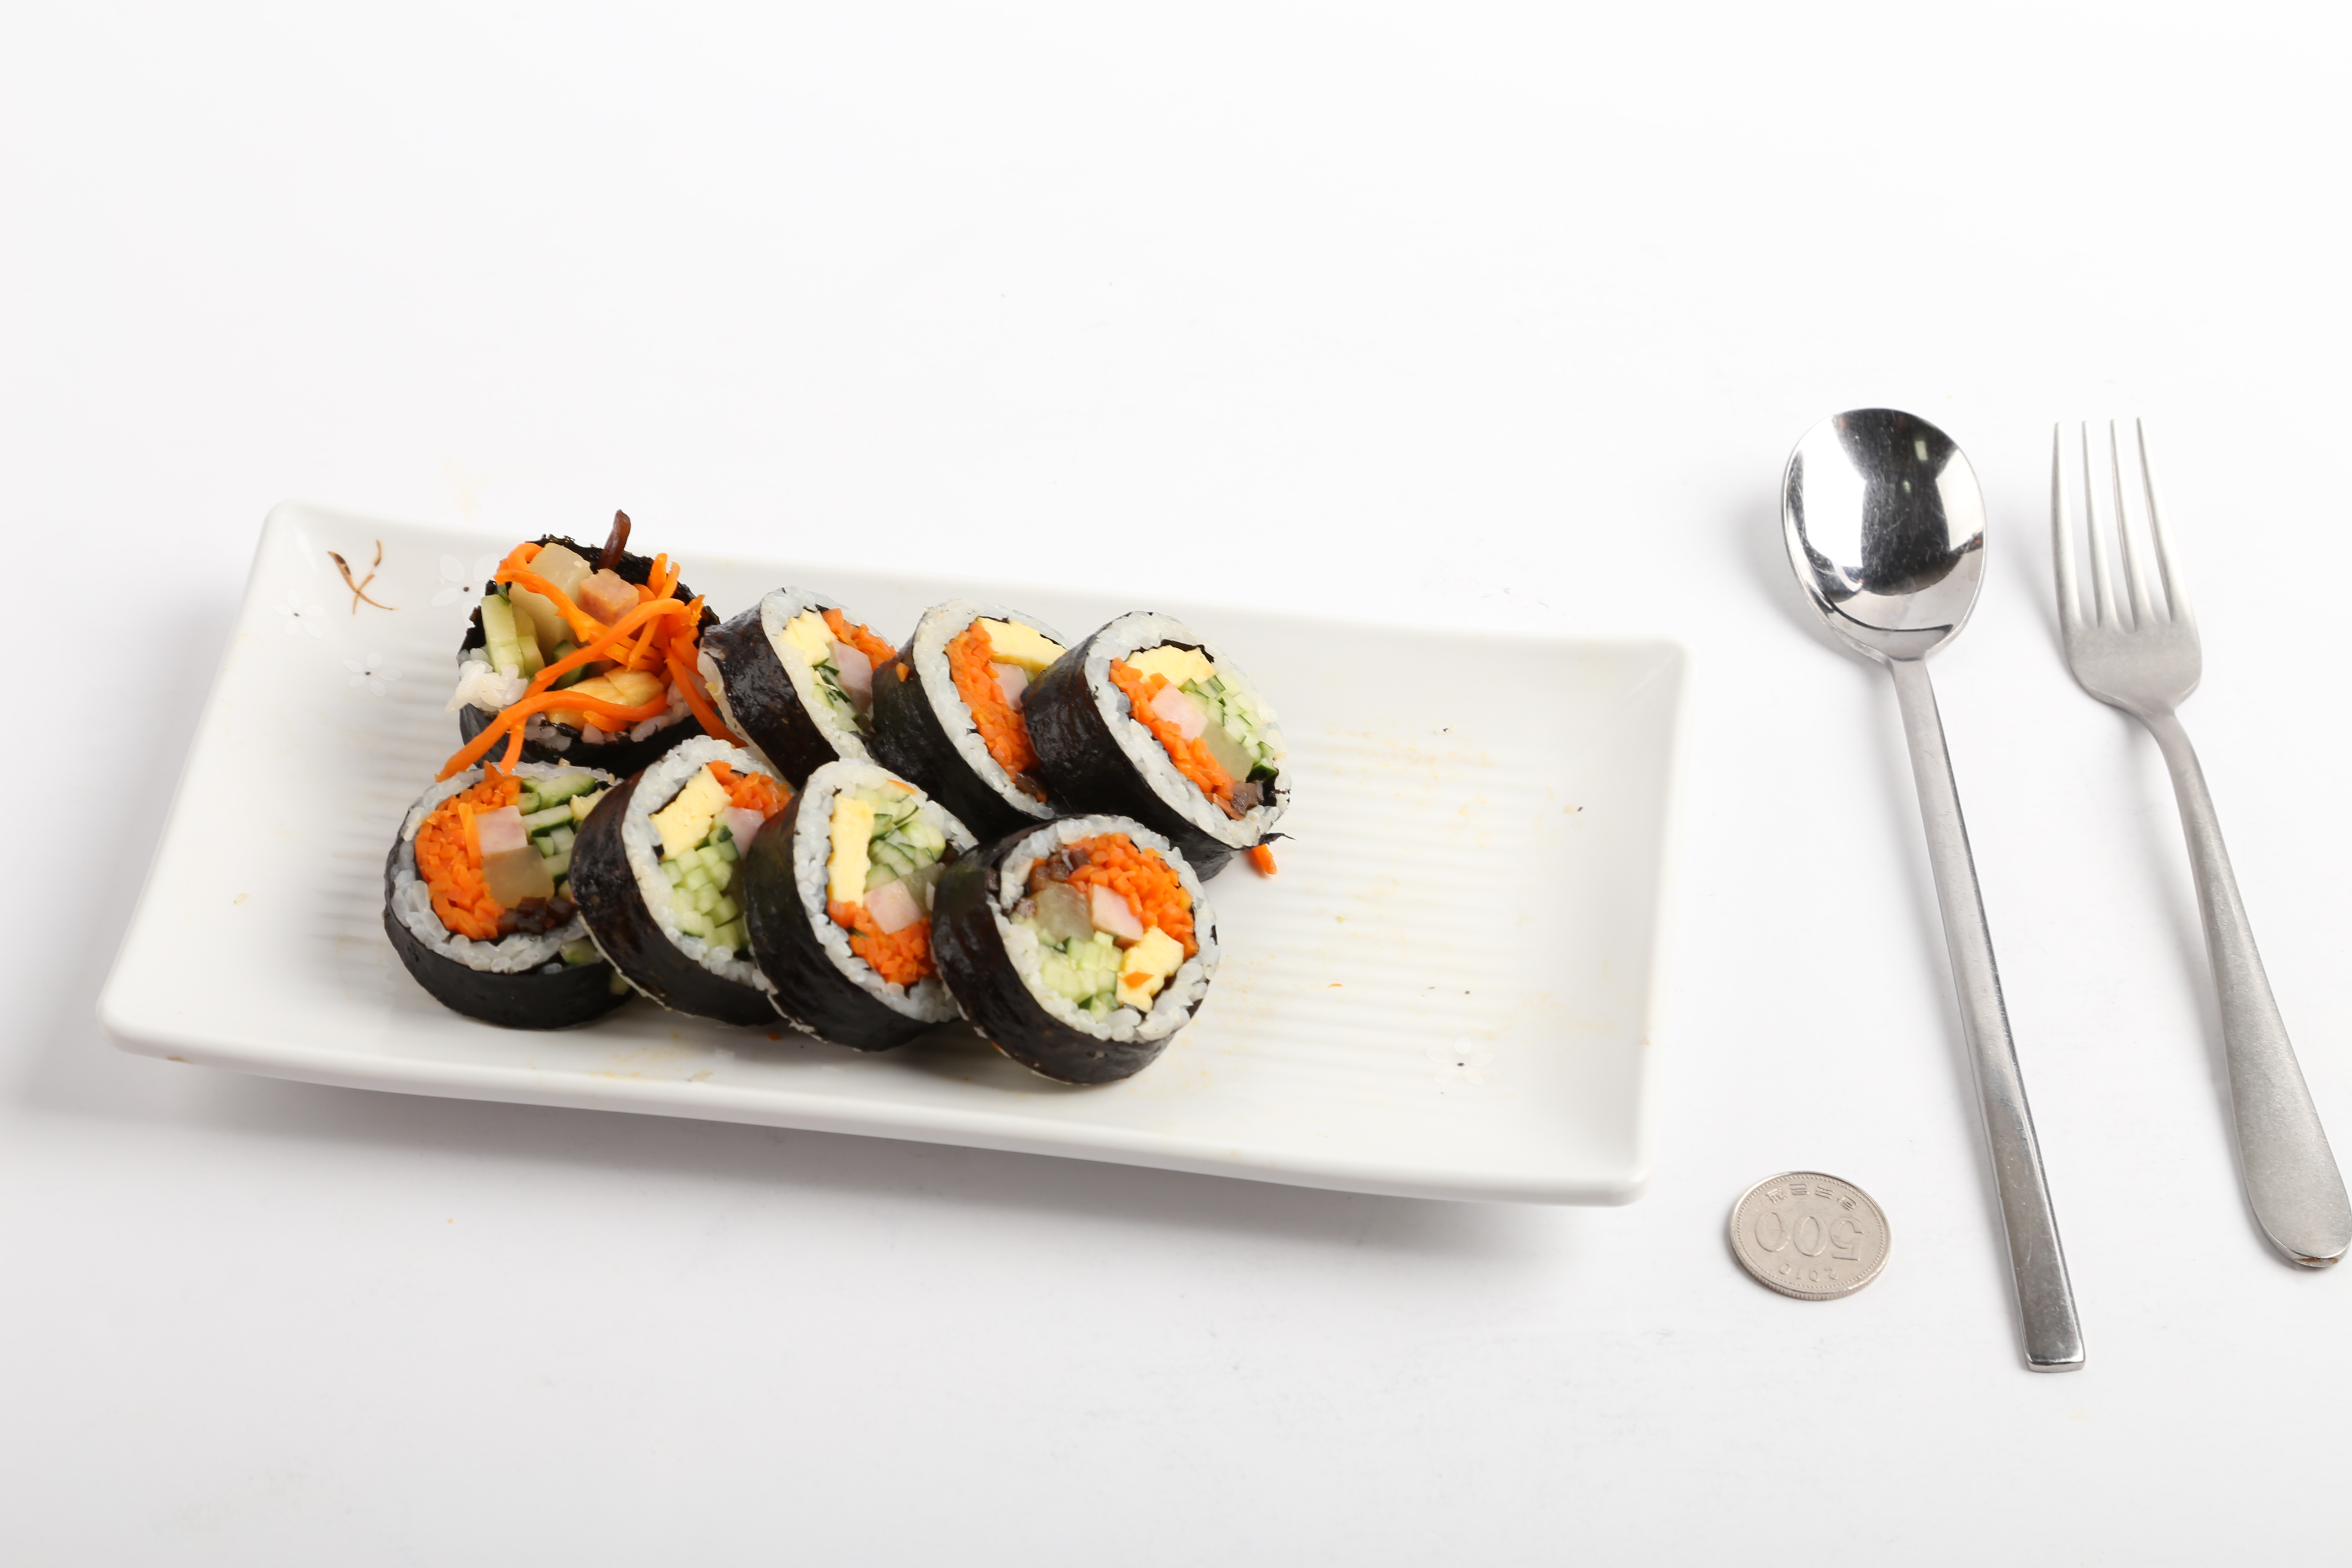dish: (91, 483, 1689, 1214)
ref_coin: (1722, 1162, 1897, 1304)
ref_fork: (2040, 394, 2207, 773)
ref_spoon: (1774, 394, 1988, 728)
김밥: (378, 520, 1298, 1094)
